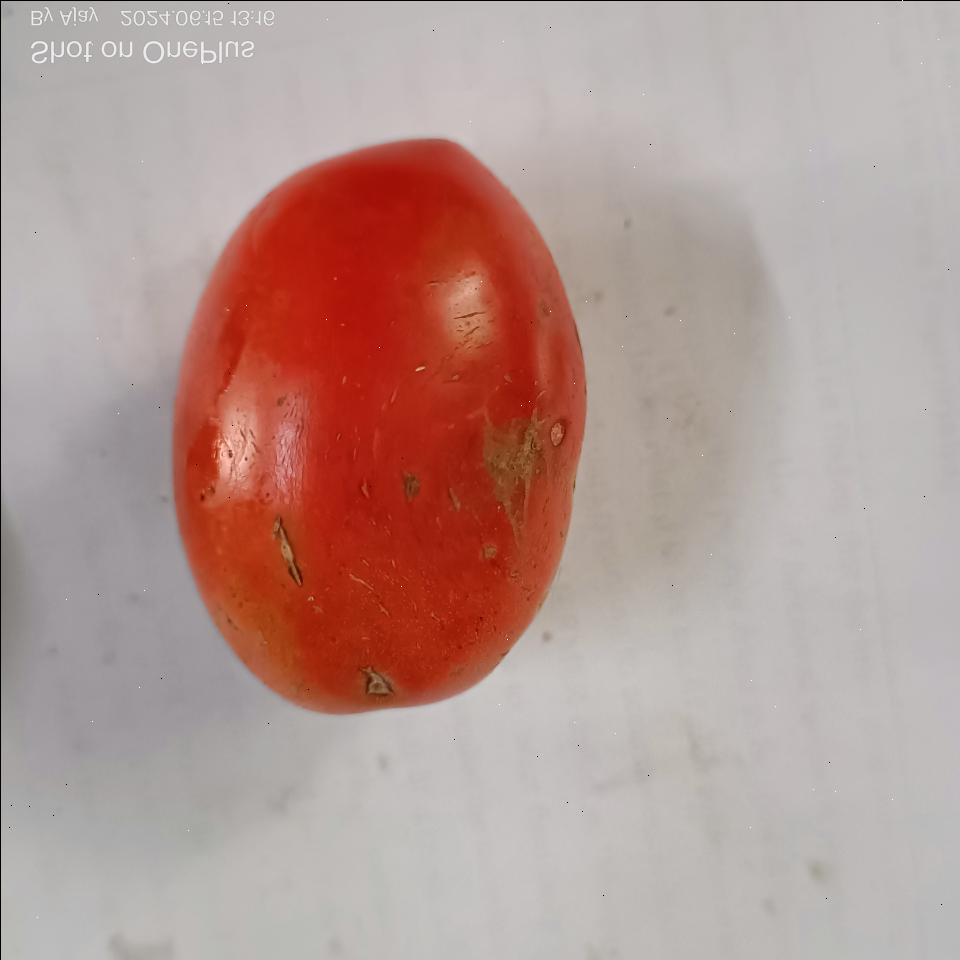Bacterial_Spot: (480, 420, 564, 506), (263, 520, 303, 596), (357, 664, 396, 698)
